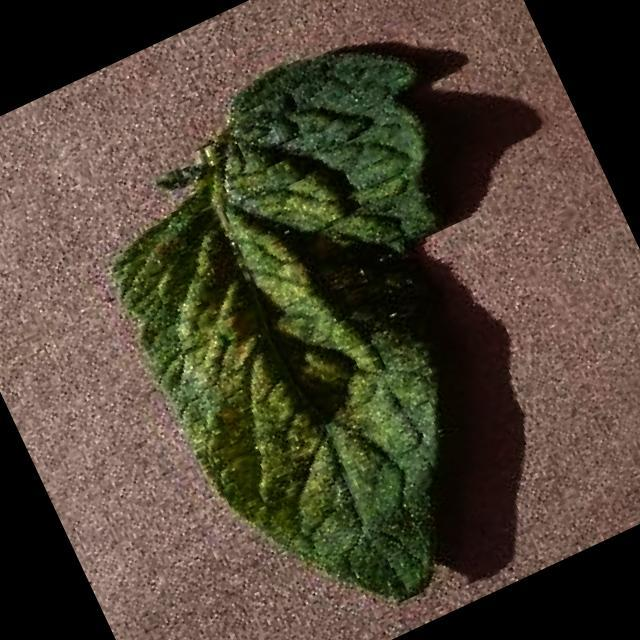Tomato spider mites leaf: (54, 11, 621, 640)
